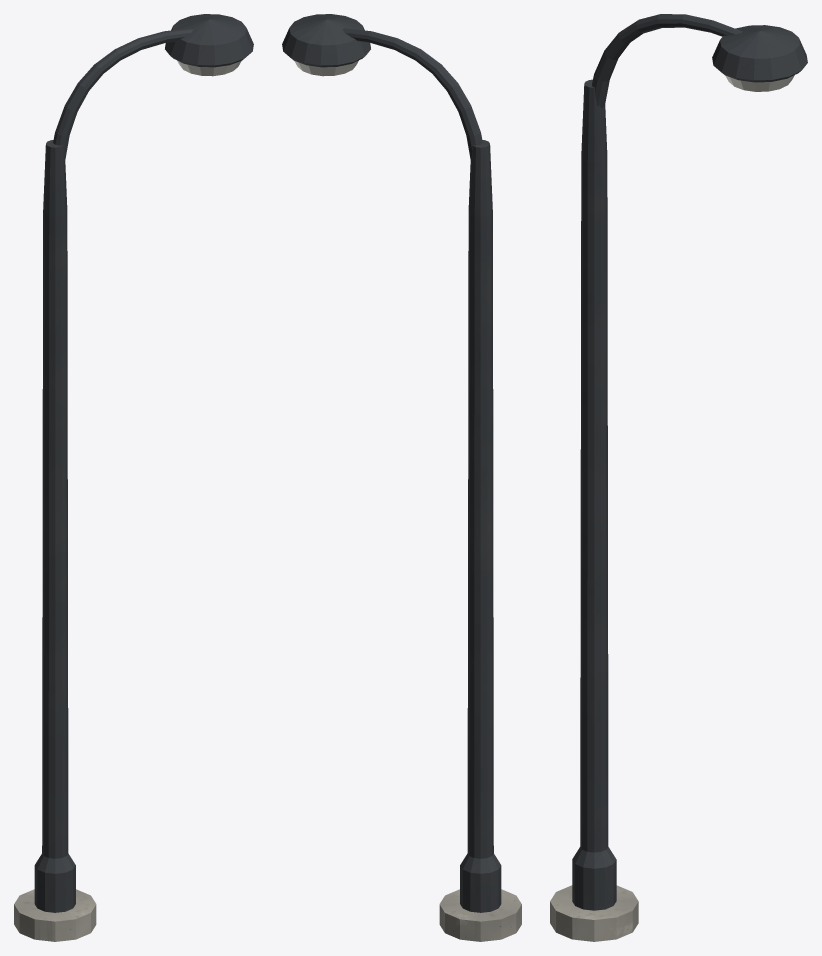
The model's file is ParkLamp.gltf.
The picture shows the model from 3 angles, left to right: view 1: azimuth 30°, elevation 25°; view 2: azimuth 150°, elevation 25°; view 3: azimuth 330°, elevation 25°; orthographic projection. The views are drawn at different scales.
Parts seen in each view (by area): view 1: ParkLamp; view 2: ParkLamp; view 3: ParkLamp.
Boxes of the visible parts, x1=… form: ParkLamp: x1=14, y1=14, x2=253, y2=941; ParkLamp: x1=282, y1=14, x2=521, y2=941; ParkLamp: x1=550, y1=14, x2=807, y2=941.
Bounding box in the file's own units: 1.41 × 5.11 × 0.48.
3 materials, 3 textured.
